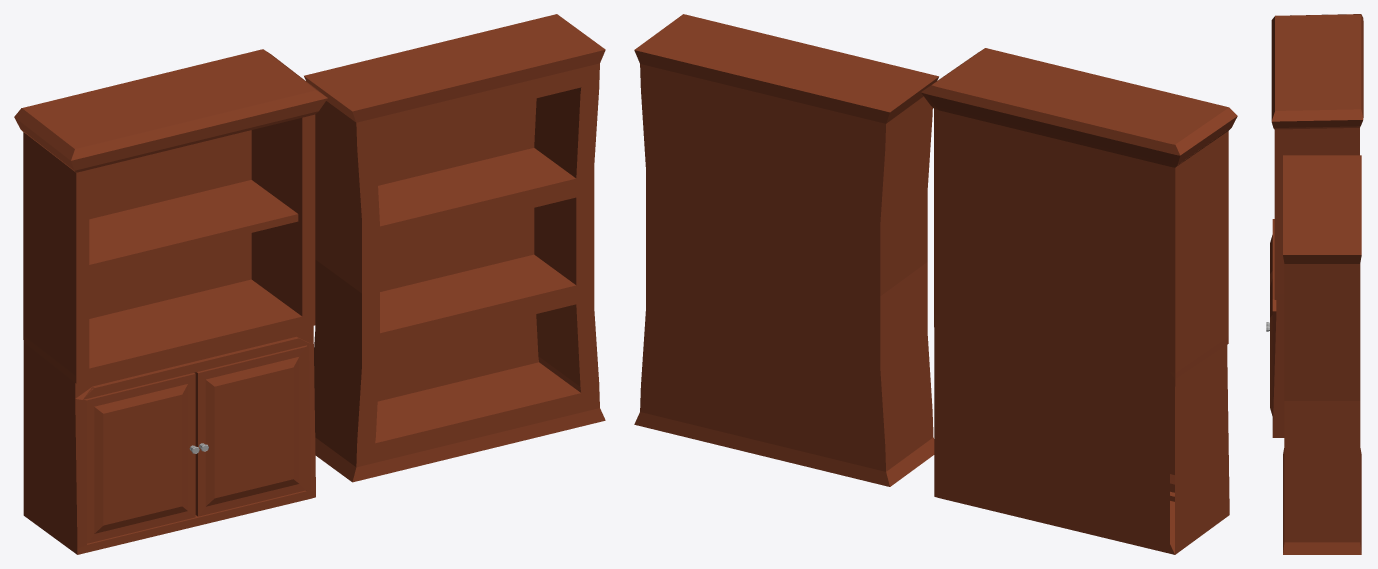
Rendered from obj_bookshelves_a6f2db.glb.
3 views of the same model, side by side, from view 1: azimuth 30°, elevation 25°; view 2: azimuth 150°, elevation 25°; view 3: azimuth 270°, elevation 25° (orthographic). The views are drawn at different scales.
Visible parts, largest first — view 1: obj_bookshelves_a6f2db; view 2: obj_bookshelves_a6f2db; view 3: obj_bookshelves_a6f2db.
Part boxes in pixels (bbox=[...]): obj_bookshelves_a6f2db: bbox=[14, 14, 605, 554]; obj_bookshelves_a6f2db: bbox=[634, 14, 1237, 554]; obj_bookshelves_a6f2db: bbox=[1266, 14, 1363, 554].
Bounding box in the file's own units: 2.5 × 1.8 × 0.4799.
